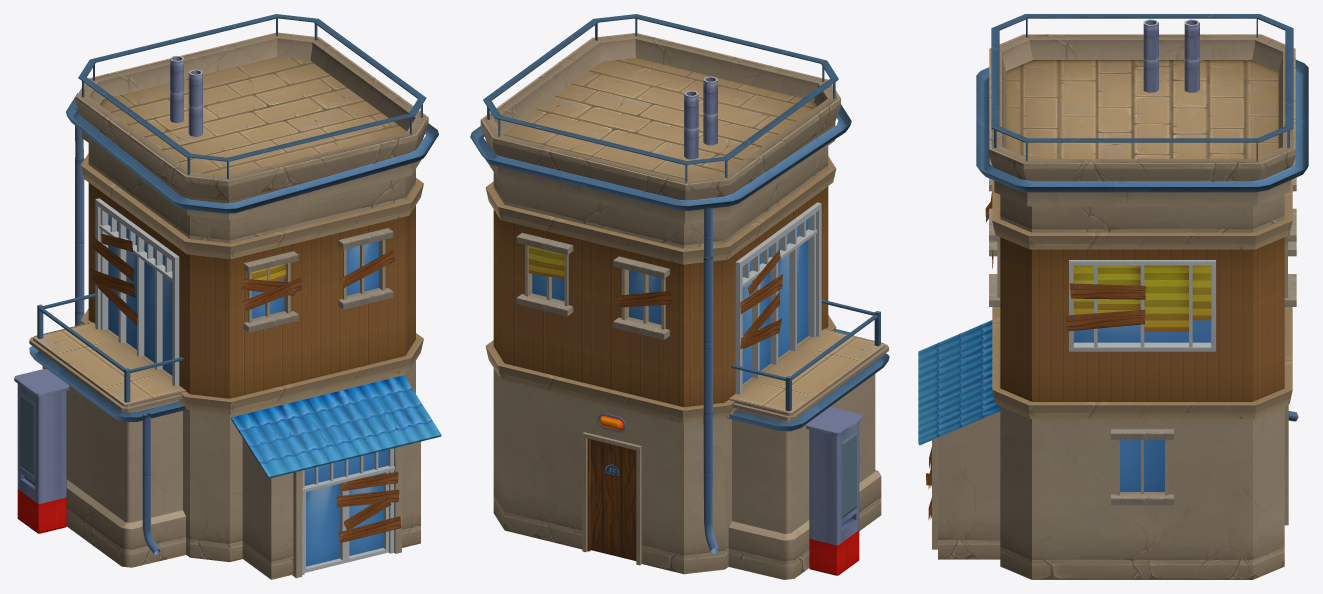
The model's file is Building_02_3_LOD2.fbx.
3 renders of one model, left to right at view 1: azimuth 30°, elevation 25°; view 2: azimuth 150°, elevation 25°; view 3: azimuth 270°, elevation 25°, orthographic. The views are drawn at different scales.
Visible parts, largest first — view 1: polySurface3666; view 2: polySurface3666; view 3: polySurface3666.
Boxes of the visible parts, <box> form: polySurface3666: <box>14,14,441,579</box>; polySurface3666: <box>470,14,889,579</box>; polySurface3666: <box>918,14,1308,579</box>.
Bounding box in the file's own units: 736 × 896 × 673.
